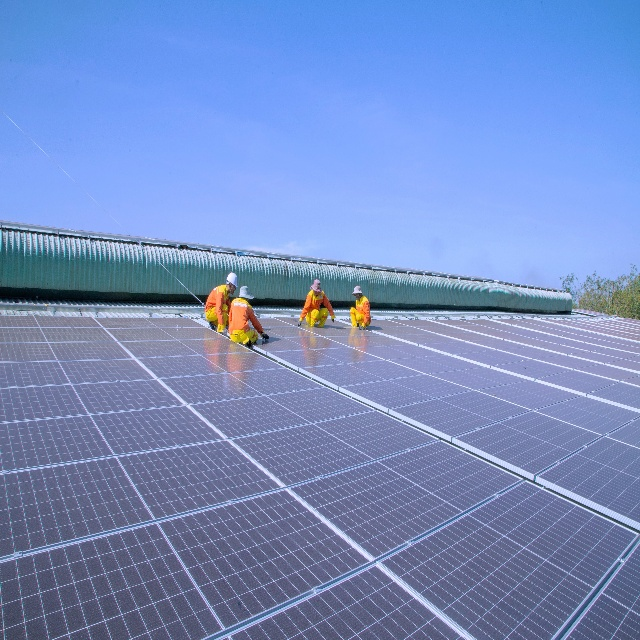Guantes: (262, 333, 269, 341), (223, 327, 228, 337), (297, 319, 301, 327), (358, 325, 364, 330)
